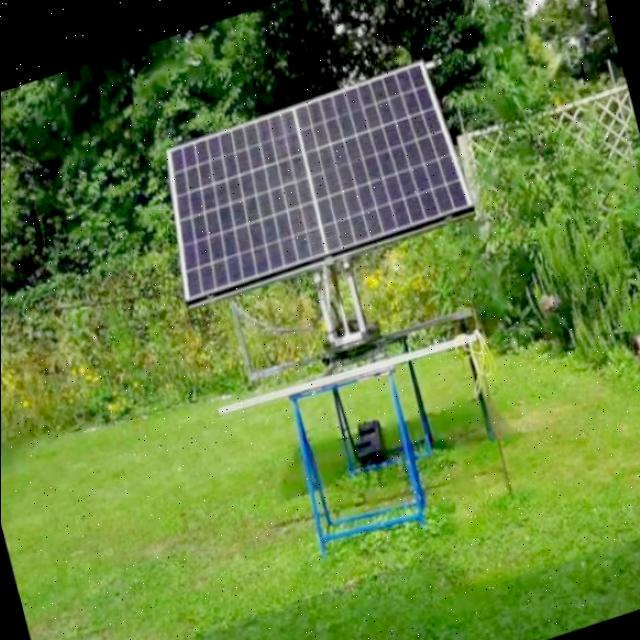Normal Solar Panel: (153, 53, 474, 294)
